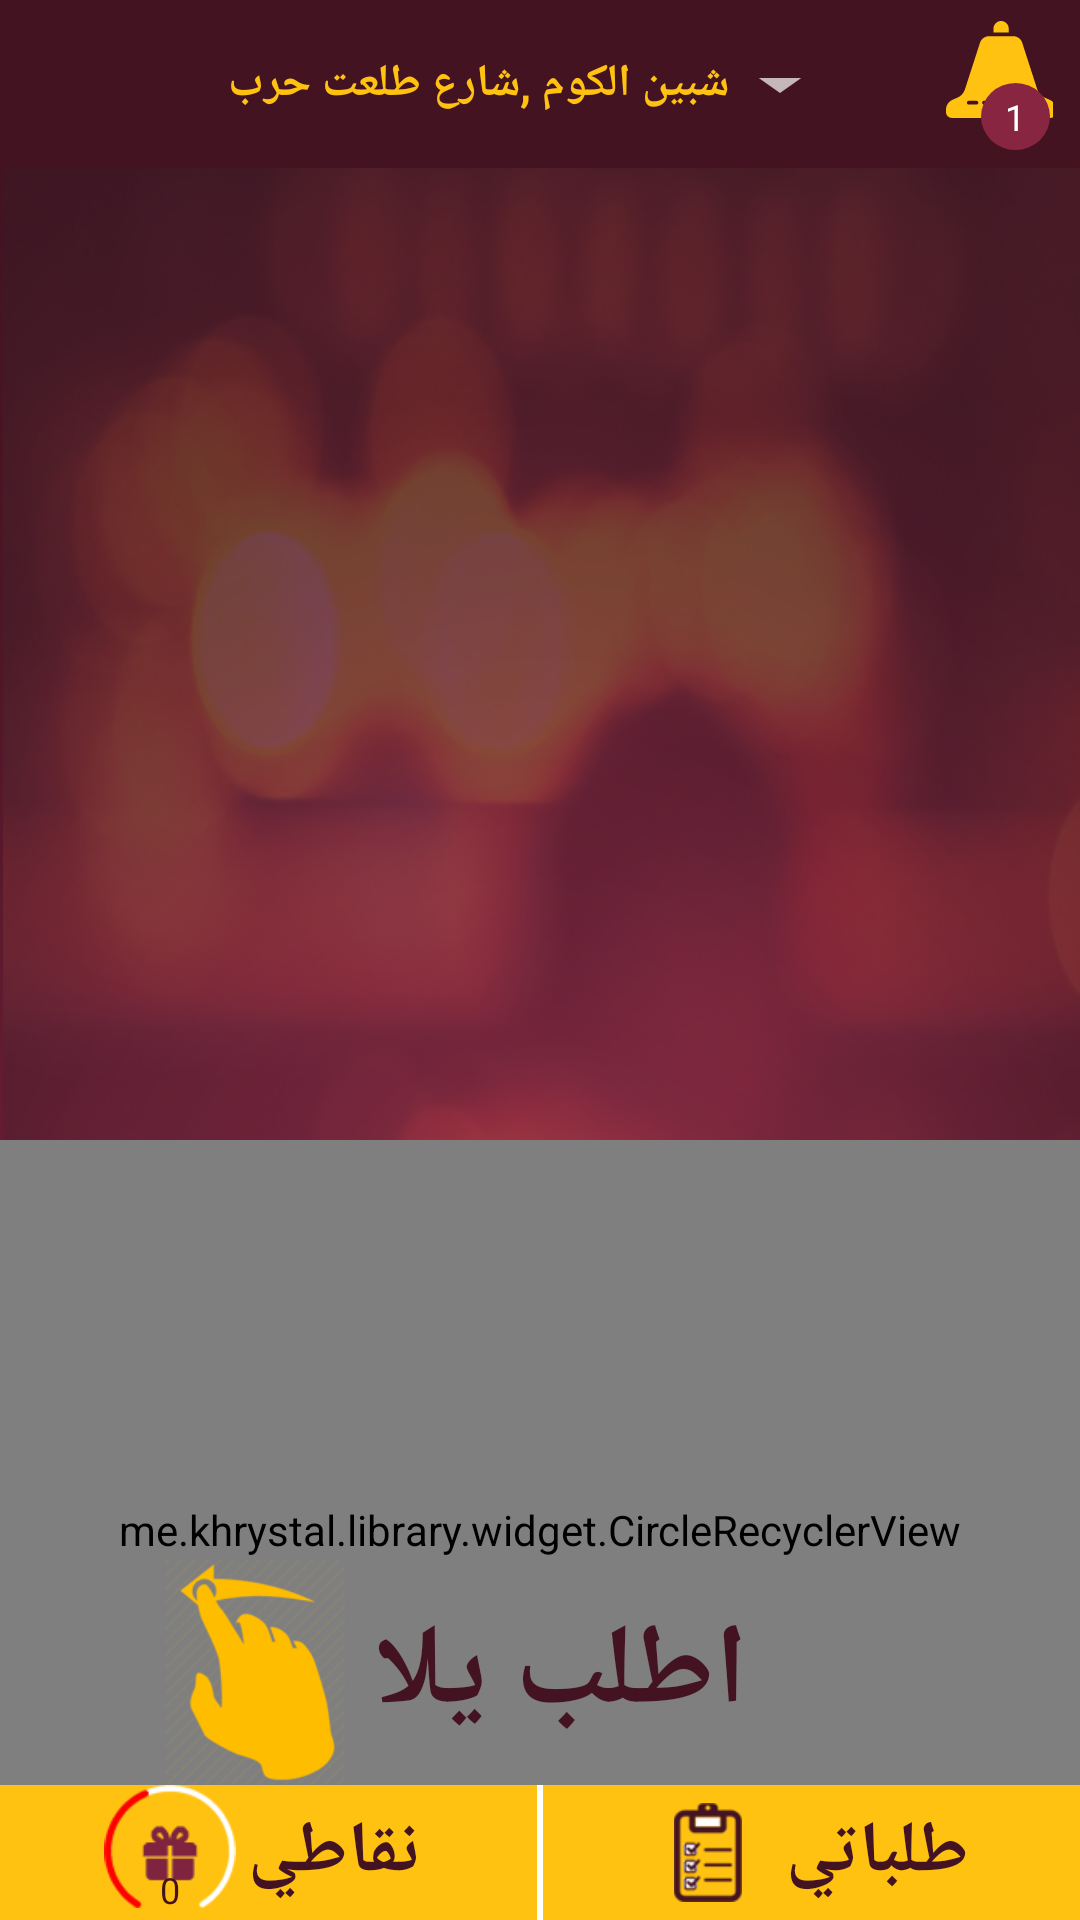

Icon click points for this 1080*1920 phone screenshot, format (x=x, y=y):
arrow drop down: (x=780, y=85)
drag: (x=257, y=1672)
myorder: (x=708, y=1852)
mypoints: (x=170, y=1846)
ring: (x=999, y=79)
